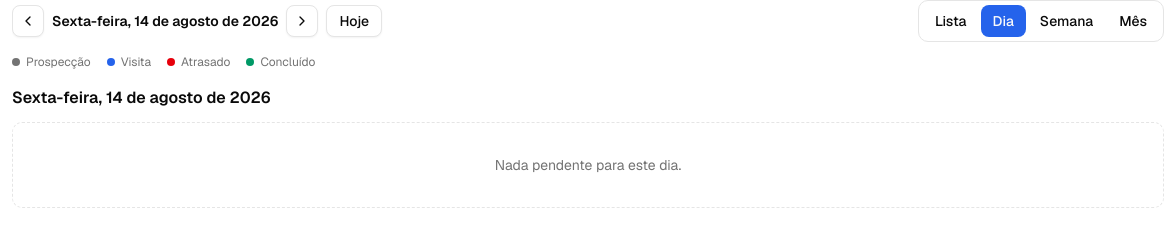
Test: AgendaCalendario › avançar no modo dia move o rótulo um dia
Click the button named "Próximo período".
click(302, 21)  # box 286,5 -> 318,37
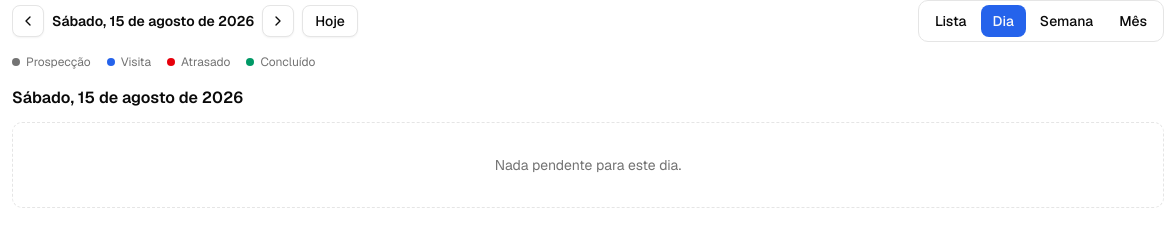
Expected: the heading "Sábado, 15 de agosto de 2026" is shown, 12,87 -> 243,108
